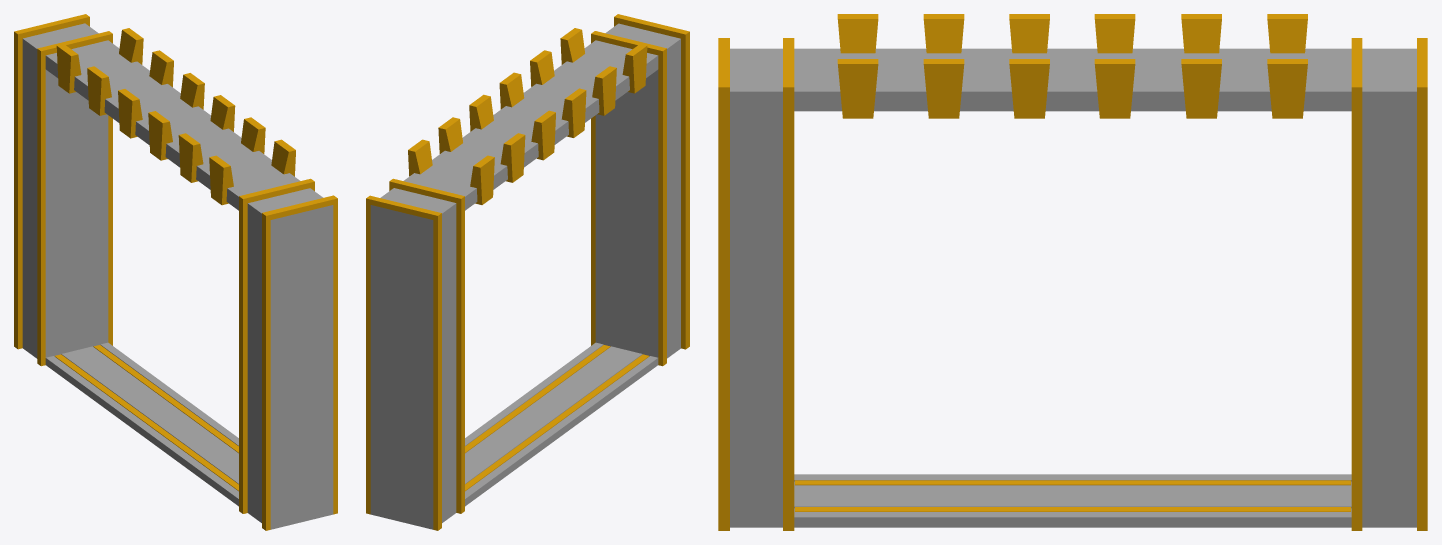
File: SM_BigDoorFrame.fbx
3 renders of one model, left to right at view 1: azimuth 30°, elevation 25°; view 2: azimuth 150°, elevation 25°; view 3: azimuth 270°, elevation 25°, orthographic. The views are drawn at different scales.
Visible parts, largest first — view 1: SM_BigDoorFrame; view 2: SM_BigDoorFrame; view 3: SM_BigDoorFrame.
Part boxes in pixels (<box>): SM_BigDoorFrame: <box>14,14,337,530</box>; SM_BigDoorFrame: <box>366,14,689,530</box>; SM_BigDoorFrame: <box>718,14,1427,530</box>.
Size of the model in its own units: 466 by 2800 by 2036.
